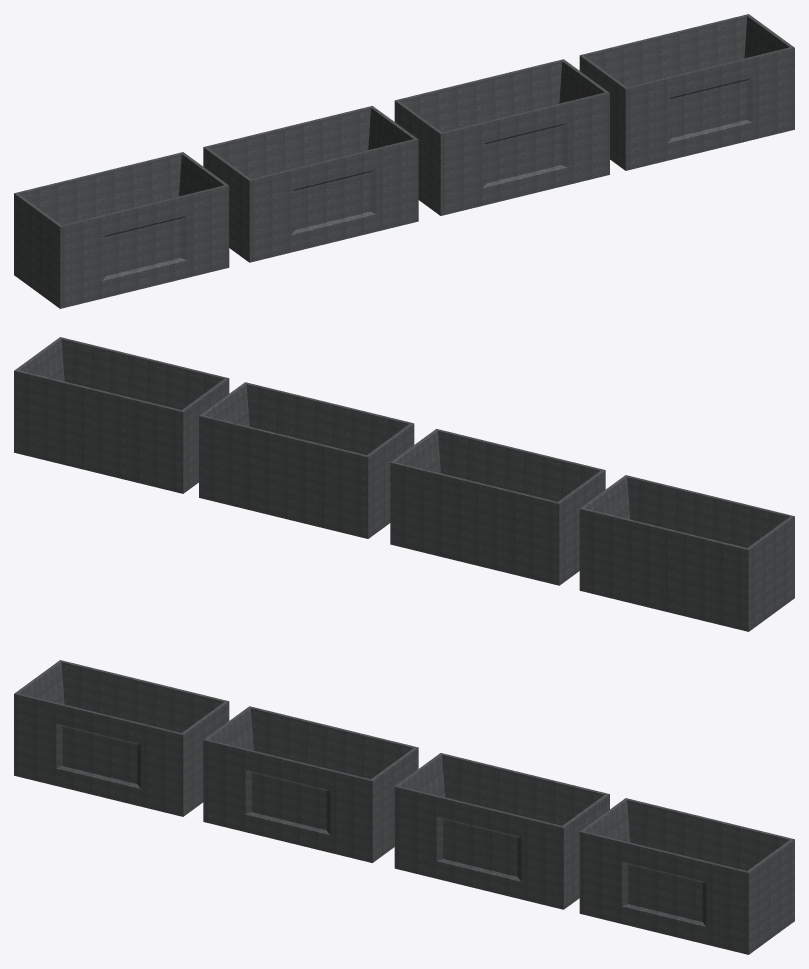
File: Crates & Symbols.fbx
The picture shows the model from 3 angles, top to bottom: view 1: azimuth 30°, elevation 25°; view 2: azimuth 150°, elevation 25°; view 3: azimuth 330°, elevation 25°; orthographic projection.
Visible parts, largest first — view 1: Crate, Crate3, Crate2, Crate4; view 2: Crate, Crate3, Crate2, Crate4; view 3: Crate4, Crate2, Crate, Crate3.
Part boxes in pixels (x1,y1,x2,y2): Crate: [14, 152, 229, 308]; Crate3: [394, 59, 609, 215]; Crate2: [203, 106, 418, 262]; Crate4: [579, 14, 794, 170]; Crate: [579, 475, 794, 631]; Crate3: [199, 382, 414, 538]; Crate2: [390, 429, 605, 585]; Crate4: [14, 337, 229, 493]; Crate4: [579, 798, 794, 954]; Crate2: [203, 706, 418, 862]; Crate: [14, 660, 229, 816]; Crate3: [394, 753, 609, 909].
Bounding box in the file's own units: 0.9461 × 0.1007 × 0.1031.
